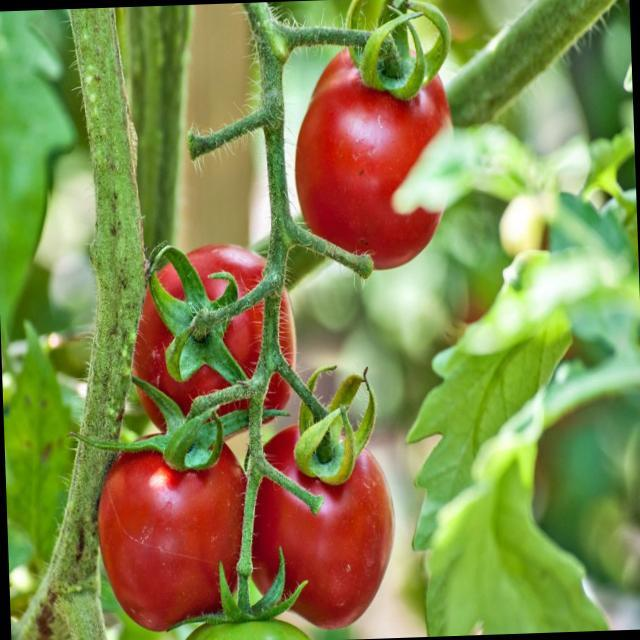TOMATO: (290, 29, 460, 271), (133, 236, 297, 440), (251, 416, 396, 636), (93, 428, 248, 628)
